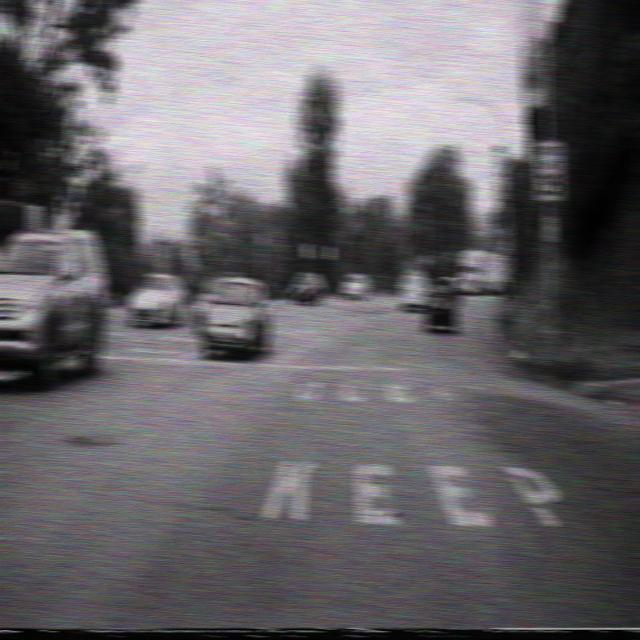speedLimit35: (534, 138, 564, 202)
